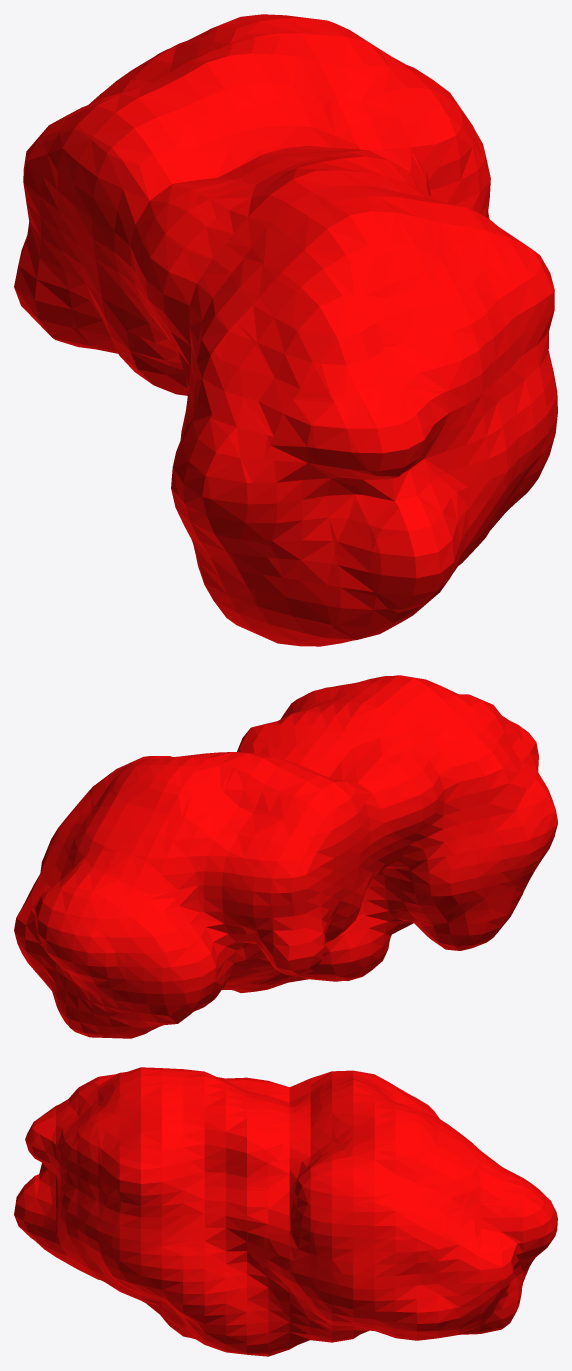
Rendered from aroK_coarse.dae.
3 views of the same model, one above another, from view 1: azimuth 30°, elevation 25°; view 2: azimuth 150°, elevation 25°; view 3: azimuth 270°, elevation 25° (orthographic). The views are drawn at different scales.
Visible parts, largest first — view 1: aroK; view 2: aroK; view 3: aroK.
Boxes of the visible parts, x1,y1,x2,y2 form: aroK: [14, 14, 557, 646]; aroK: [14, 675, 557, 1038]; aroK: [14, 1067, 557, 1356].
Size of the model in its own units: 50.33 by 41.43 by 81.13.
